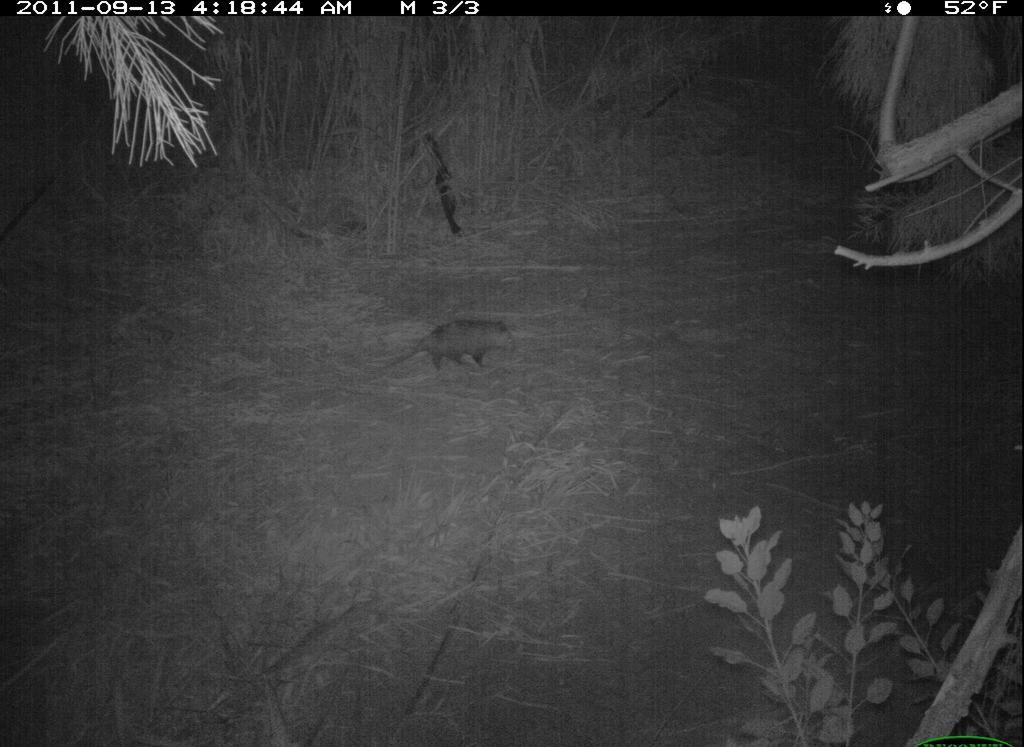opossum: (364, 315, 525, 390)
